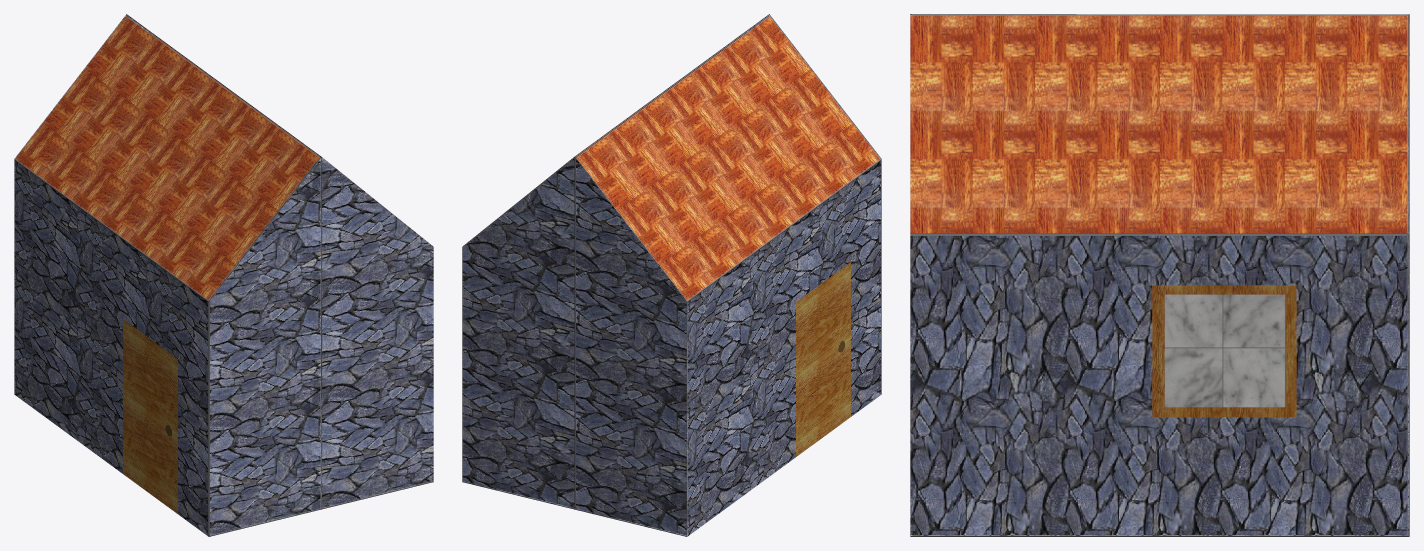
The model's file is maison.dae.
The picture shows the model from 3 angles, left to right: view 1: azimuth 30°, elevation 25°; view 2: azimuth 150°, elevation 25°; view 3: azimuth 270°, elevation 25°; orthographic projection. The views are drawn at different scales.
Parts seen in each view (by area): view 1: Cube; view 2: Cube; view 3: Cube.
Boxes of the visible parts, x1,y1,x2,y2 form: Cube: (14, 14, 433, 536); Cube: (462, 14, 881, 536); Cube: (910, 14, 1409, 536).
Size of the model in its own units: 2 by 3 by 3.
